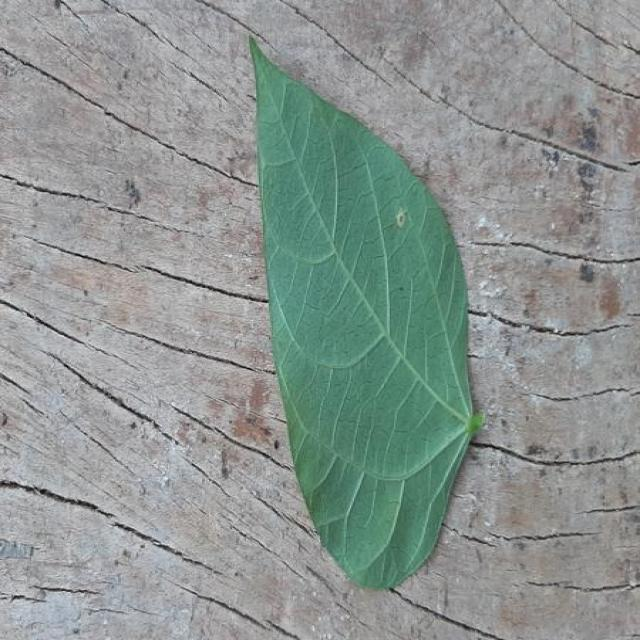beans: (251, 39, 483, 588)
